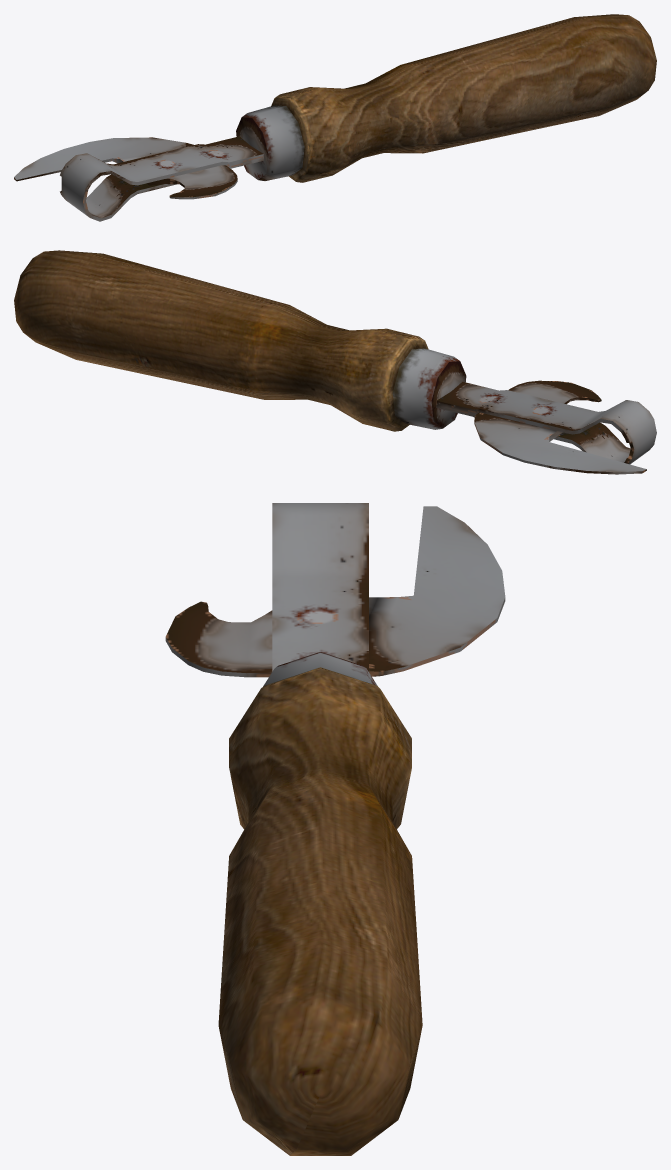
File: Opener01.FBX
The picture shows the model from 3 angles, top to bottom: view 1: azimuth 30°, elevation 25°; view 2: azimuth 150°, elevation 25°; view 3: azimuth 270°, elevation 25°; orthographic projection. The views are drawn at different scales.
Parts seen in each view (by area): view 1: Opener01_LOD0; view 2: Opener01_LOD0; view 3: Opener01_LOD0.
Boxes of the visible parts, x1,y1,x2,y2 form: Opener01_LOD0: [14, 14, 656, 221]; Opener01_LOD0: [14, 250, 656, 474]; Opener01_LOD0: [165, 503, 505, 1155].
Size of the model in its own units: 15.05 by 3.68 by 2.18.
